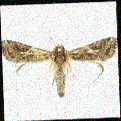Spodoptera litura: (2, 23, 118, 99)
